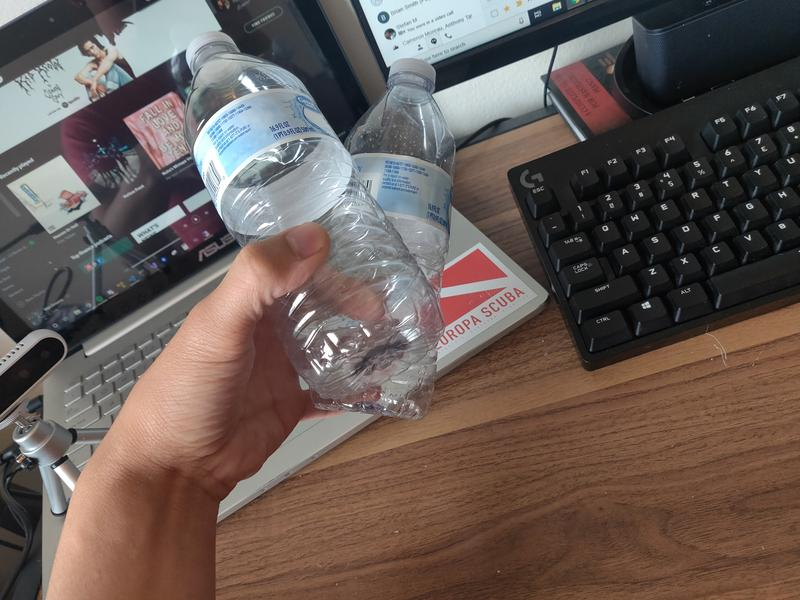bottle: (185, 30, 445, 395), (309, 57, 457, 419)
